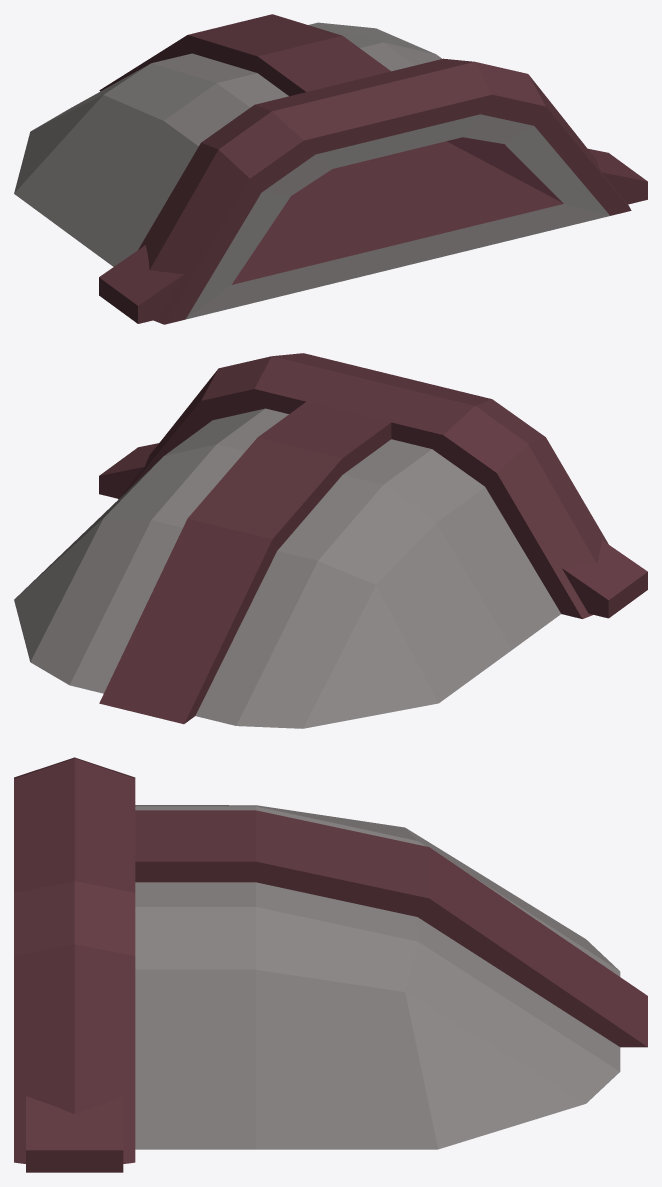
The model's file is scifi-vent-end.fbx.
3 renders of one model, top to bottom at view 1: azimuth 30°, elevation 25°; view 2: azimuth 150°, elevation 25°; view 3: azimuth 270°, elevation 25°, orthographic. The views are drawn at different scales.
Parts seen in each view (by area): view 1: scifi-vent-end; view 2: scifi-vent-end; view 3: scifi-vent-end.
Part boxes in pixels (bbox=[...]): scifi-vent-end: bbox=[14, 14, 647, 324]; scifi-vent-end: bbox=[14, 353, 647, 728]; scifi-vent-end: bbox=[14, 757, 647, 1172].
Size of the model in its own units: 1.2 by 0.3671 by 1.05.
